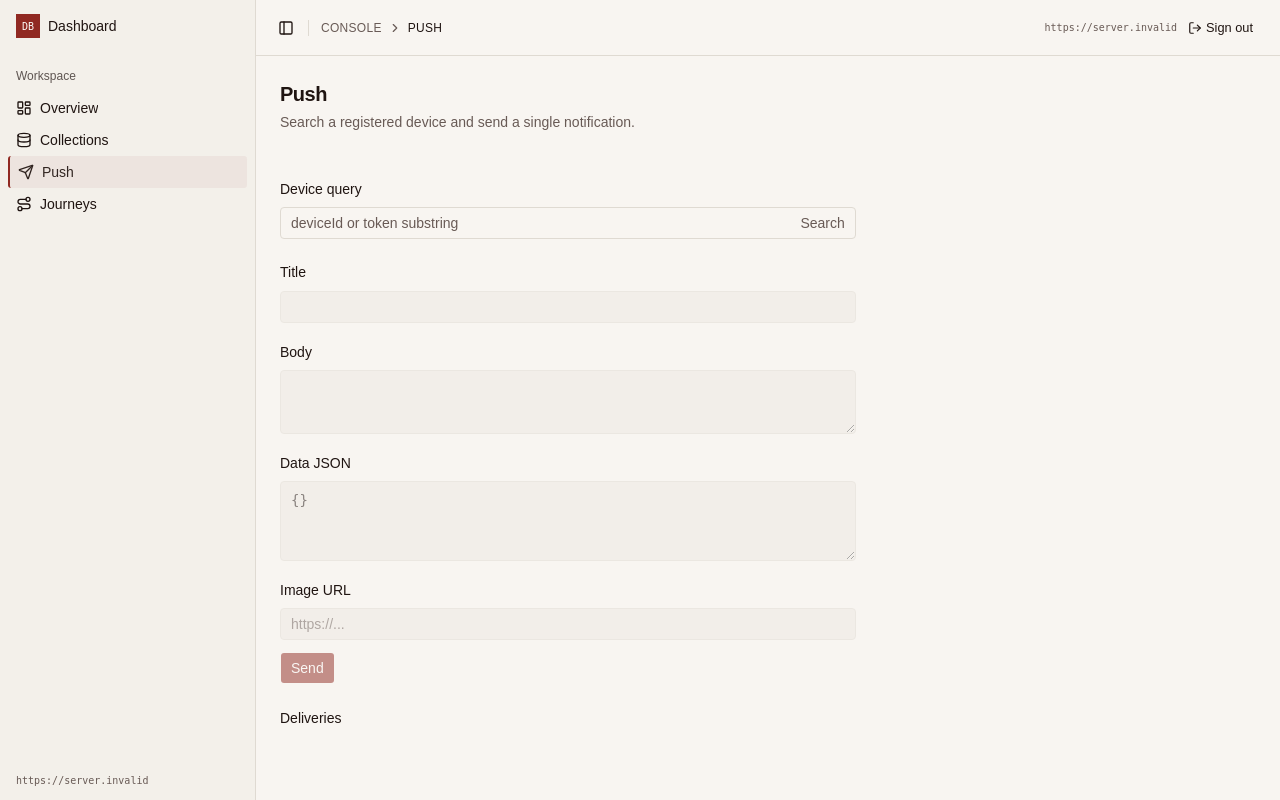
operator dashboard › toasts NO_DEVICE on push send 404 and does not crash
In the field labelled "Device query": (537, 223) [281,207,793,239], type "dev_abc"
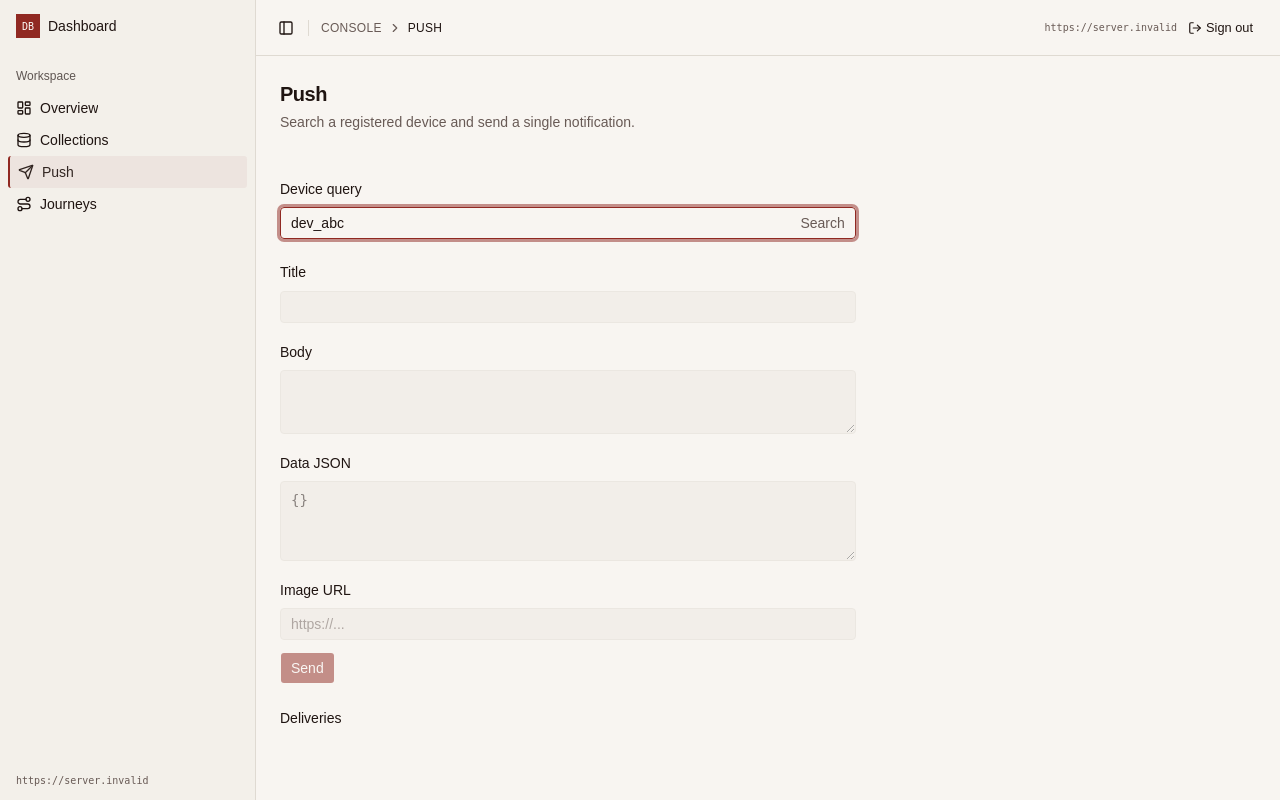
Click the button "Search": (823, 223) [793,211,852,235]
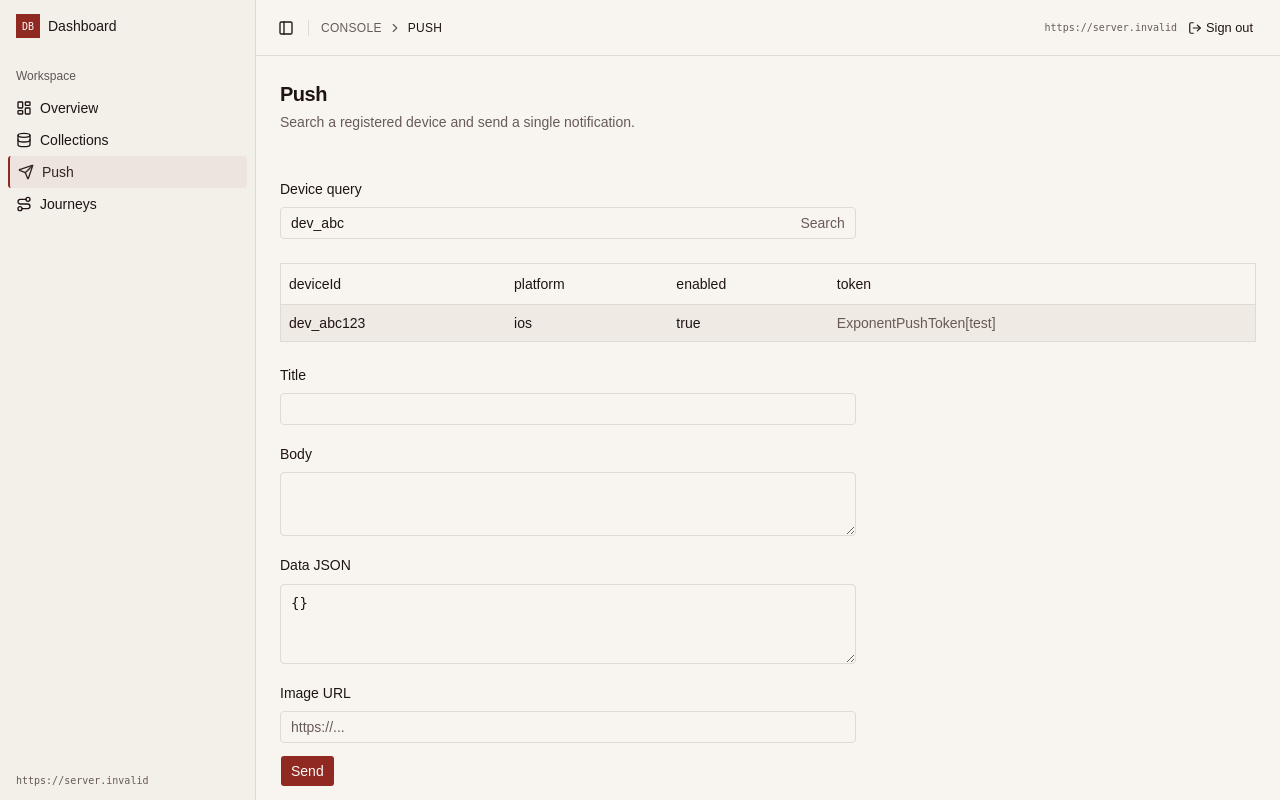
Click the text "dev_abc123": (327, 323) [281,304,506,341]
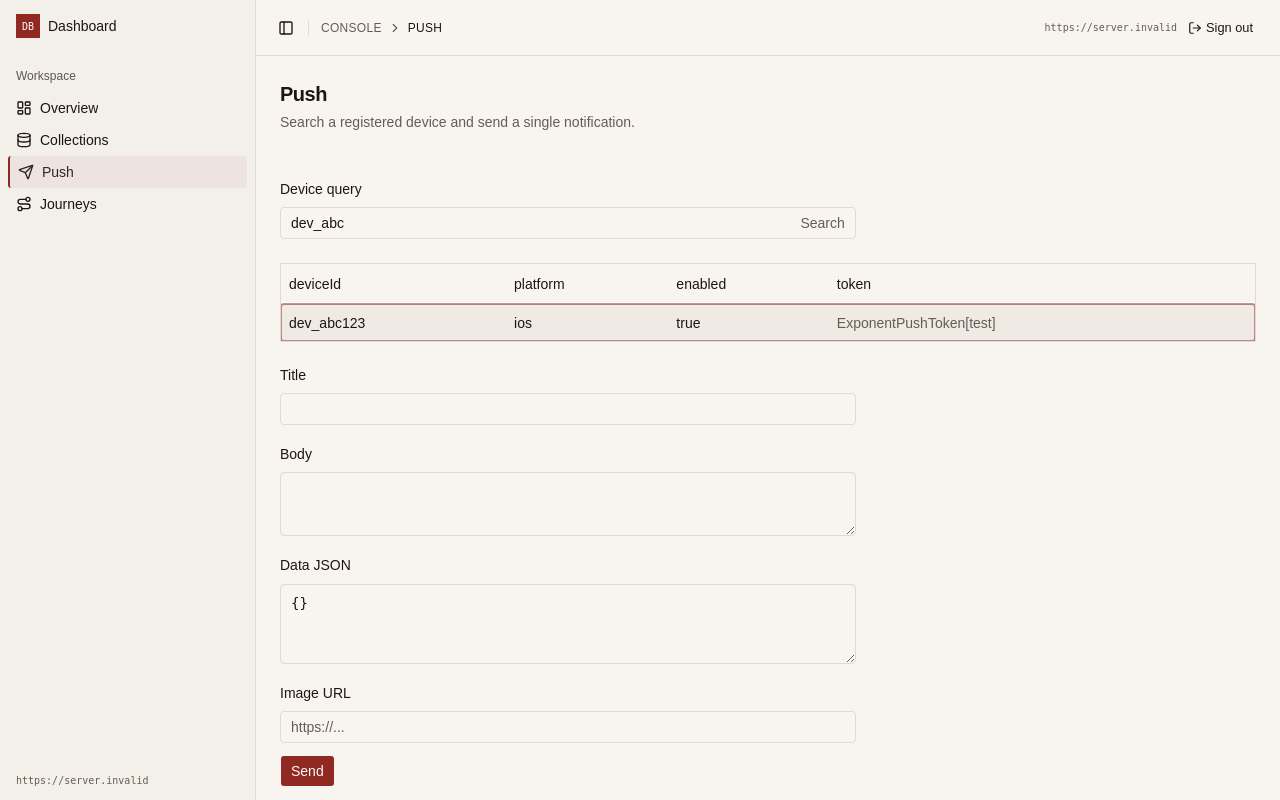
In the field labelled "Title": (568, 409) [280,393,856,425], type "Hello"
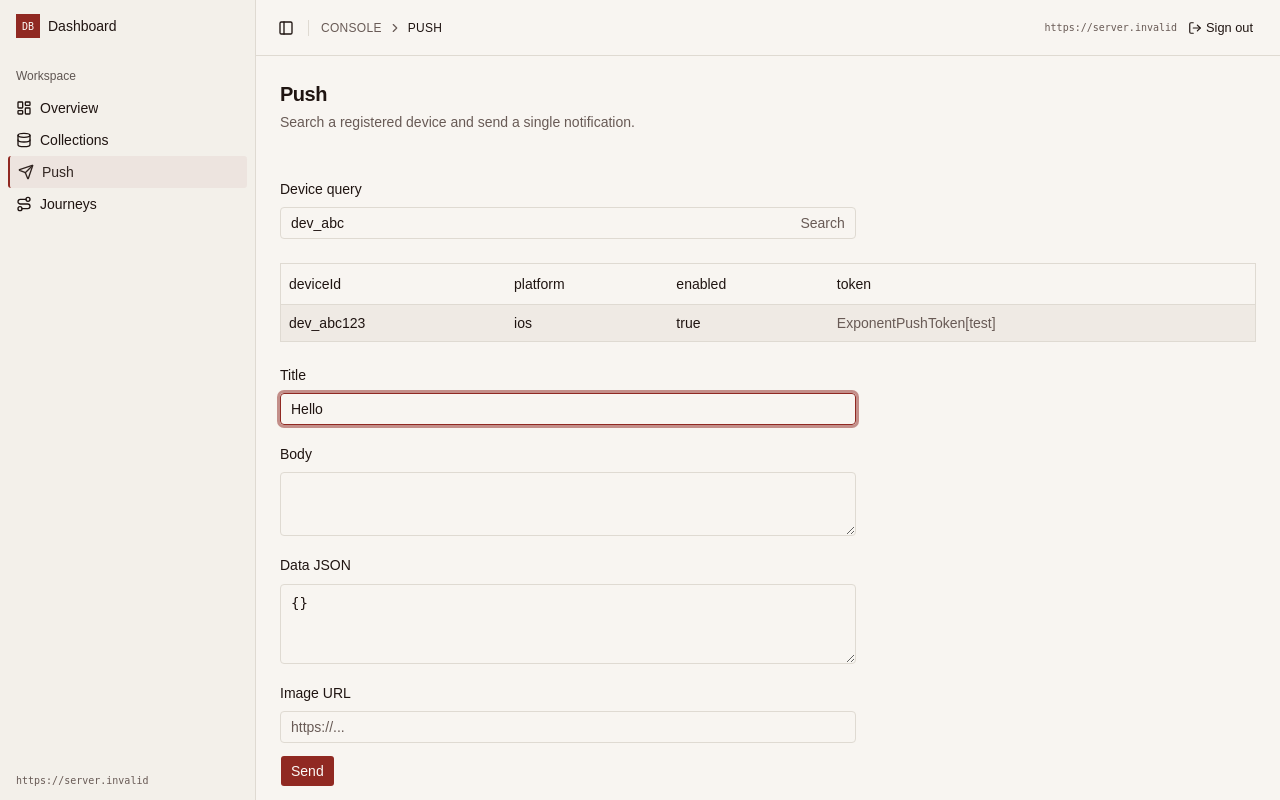
In the text box labelled "Body": (568, 504) [280,472,856,536], type "World"
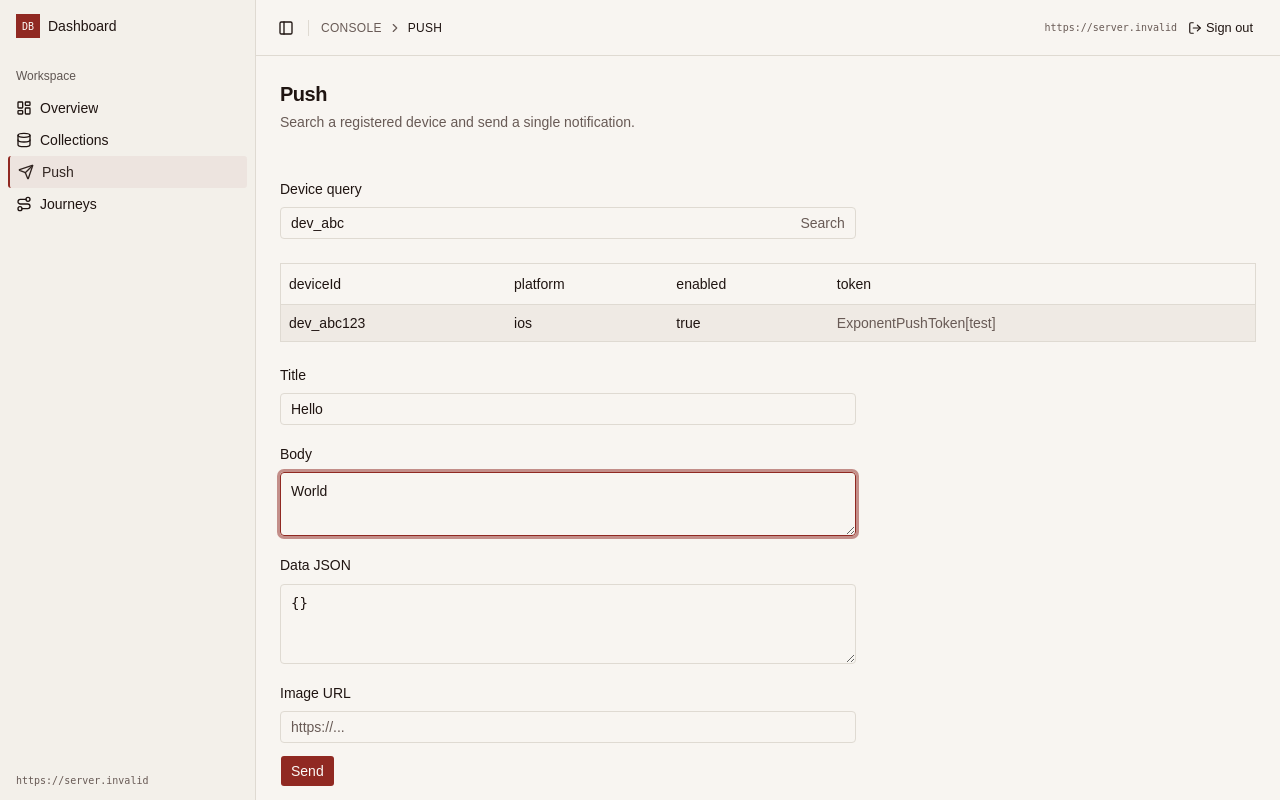
Click the button "Send": (307, 771) [280,755,335,787]
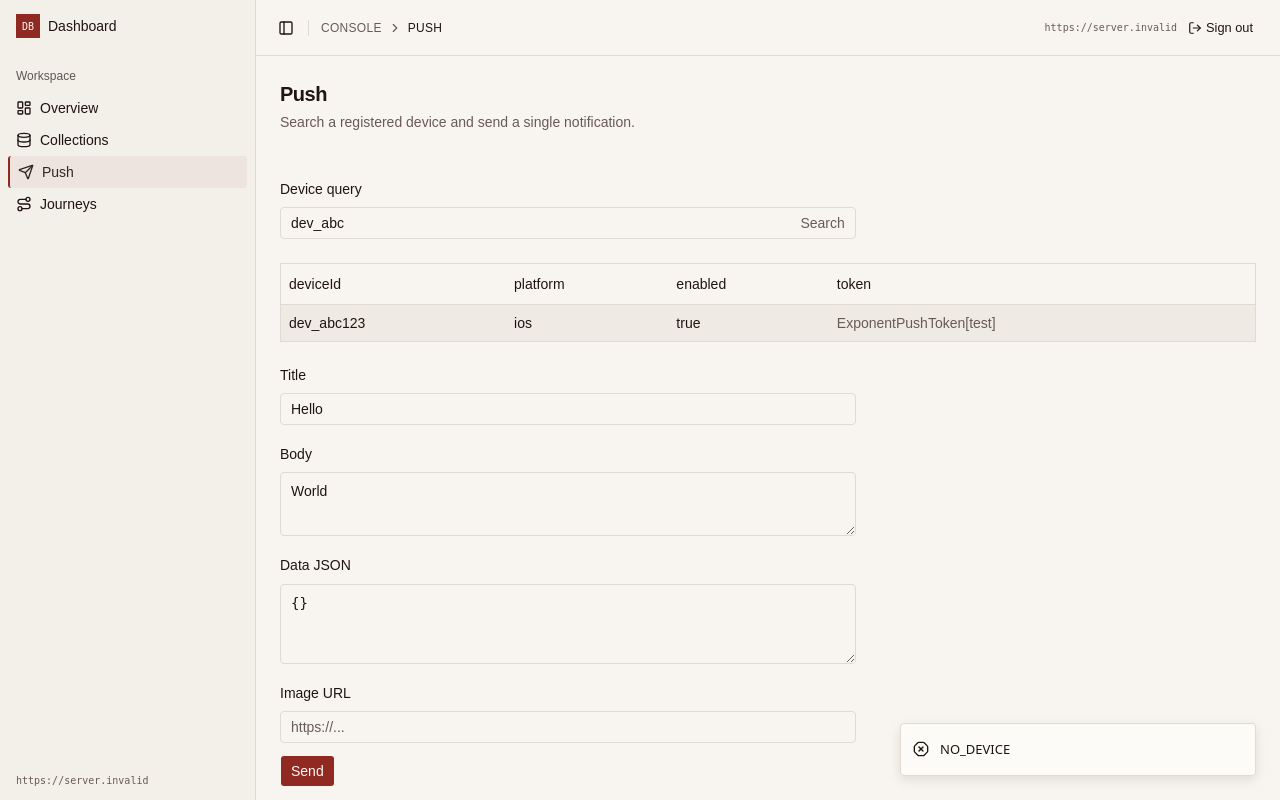
Expected: the heading "Push" is shown, [280,83,327,105]
Expected: the text "NO_DEVICE" is shown, [940,740,1010,759]
